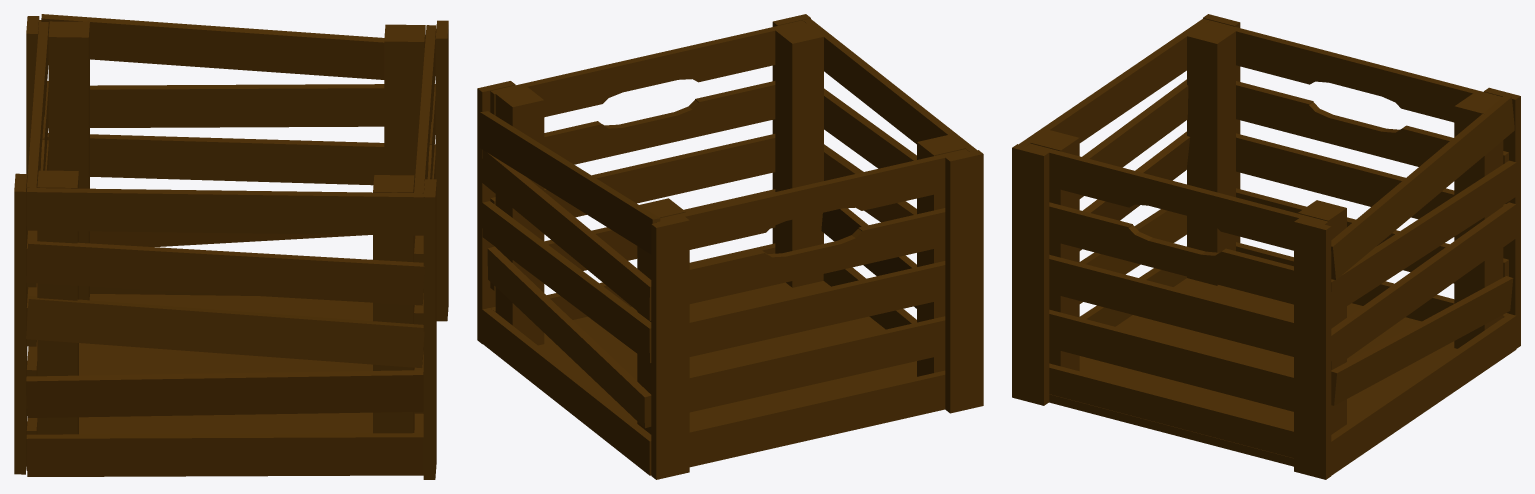
File: crate.gltf
3 views of the same model, side by side, from view 1: azimuth 30°, elevation 25°; view 2: azimuth 150°, elevation 25°; view 3: azimuth 270°, elevation 25° (orthographic). The views are drawn at different scales.
Parts seen in each view (by area): view 1: Bottom; view 2: Bottom; view 3: Bottom.
Boxes of the visible parts, x1,y1,x2,y2 form: Bottom: [14, 14, 448, 479]; Bottom: [477, 14, 983, 479]; Bottom: [1012, 14, 1520, 479].
Bounding box in the file's own units: 5.06 × 2.79 × 5.04.
